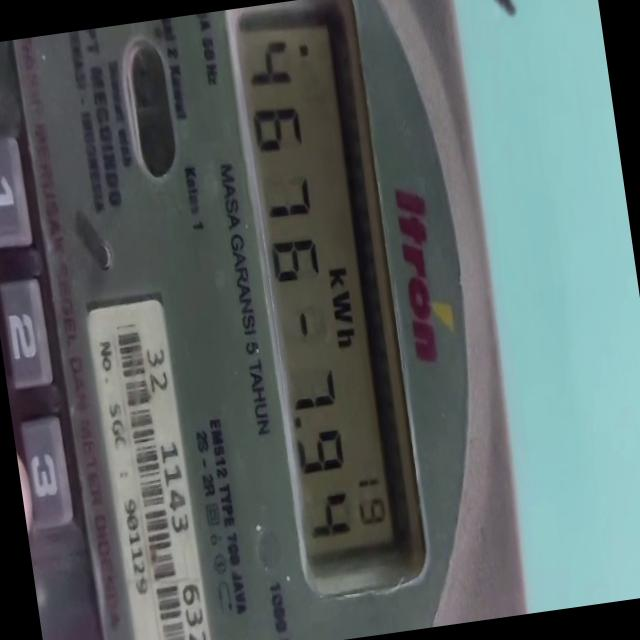LCD: (221, 0, 421, 577)
